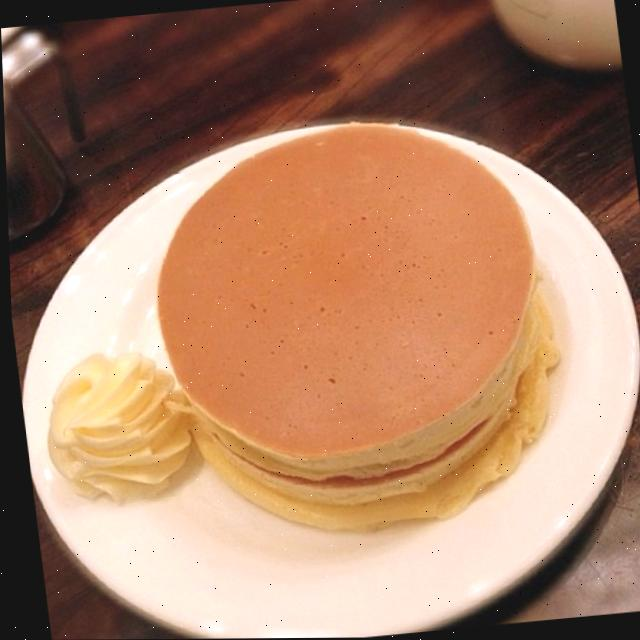米饭主食: (161, 19, 435, 314), (0, 9, 244, 313), (333, 12, 576, 291)
